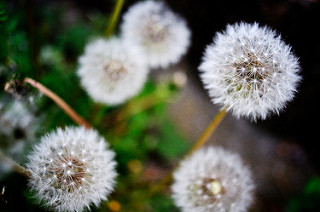dandelion white: (198, 19, 304, 125), (23, 124, 122, 212), (169, 143, 258, 212), (76, 35, 151, 107), (120, 2, 192, 69)
